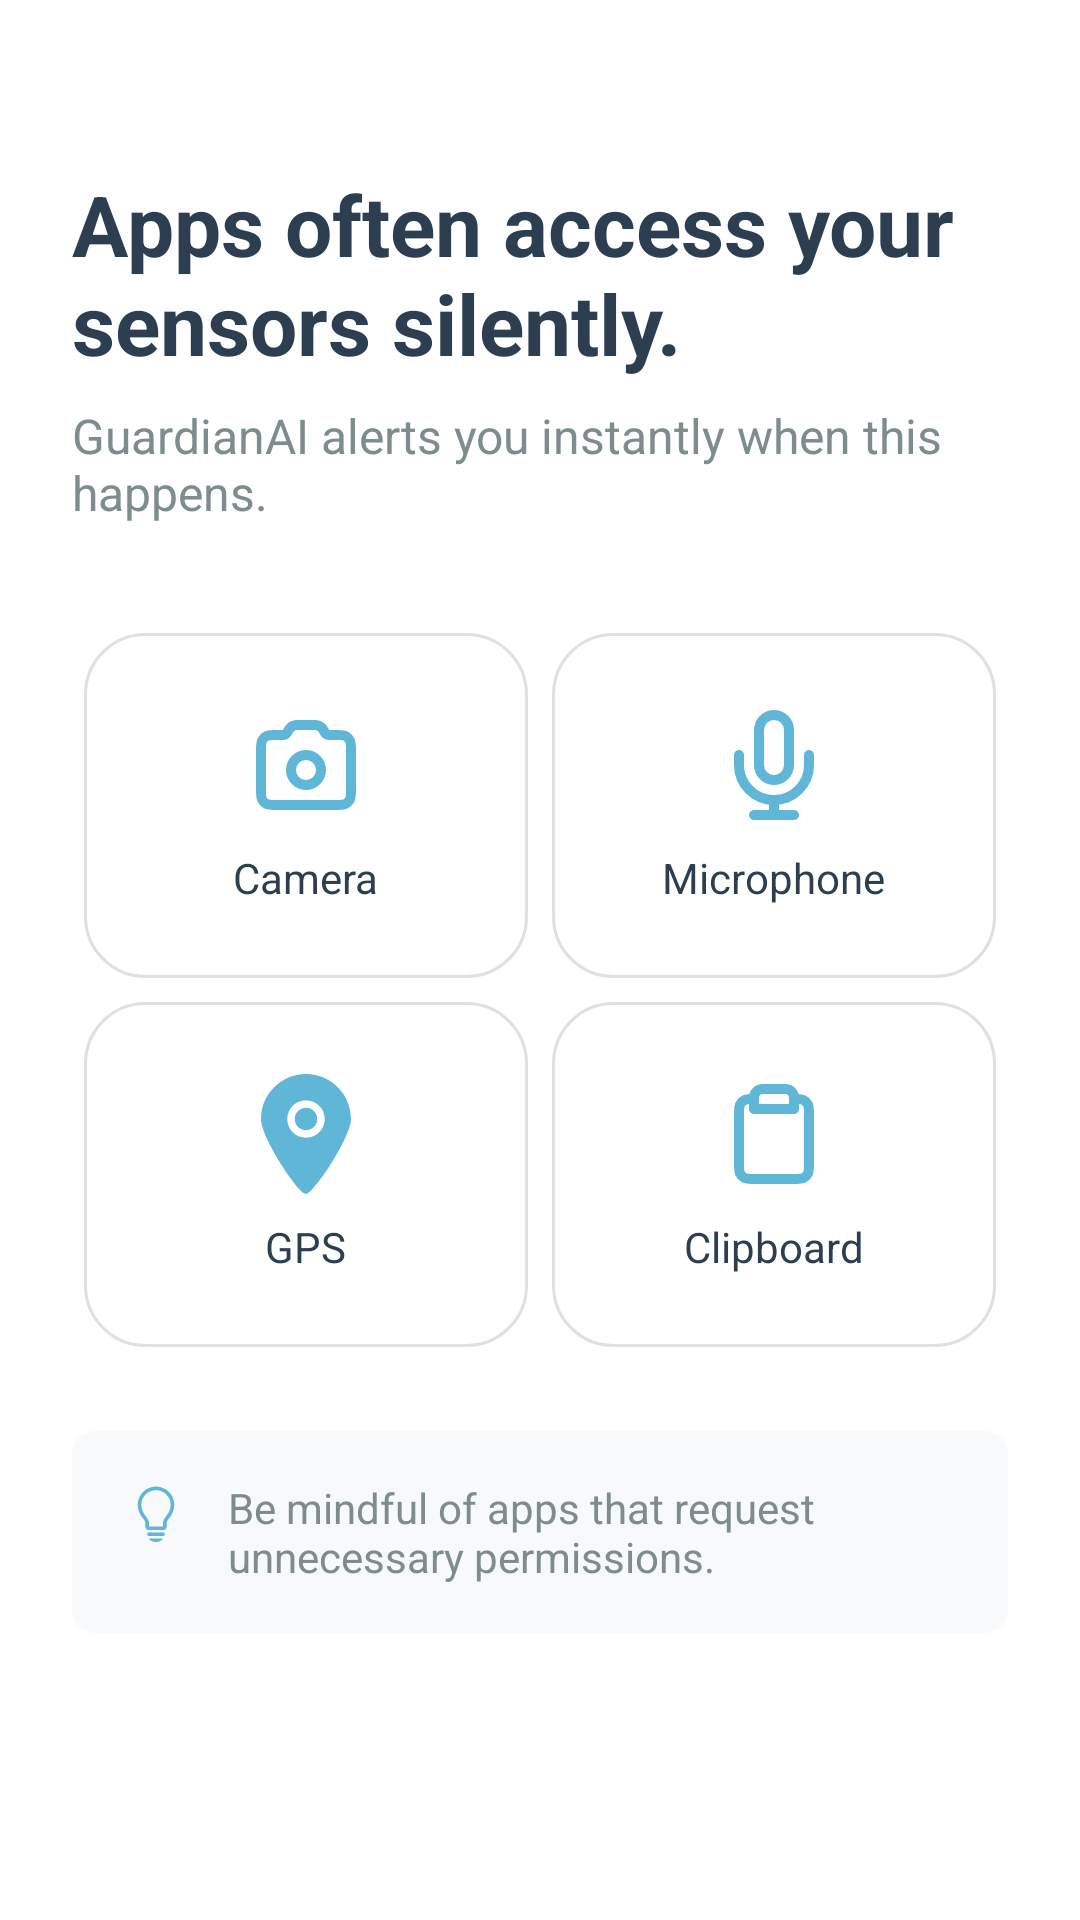

Point at icon controls on the screen. Image size 1080 × 1920, points as [x,y].
lightbulb: [156,1514]
location: [306,1134]
